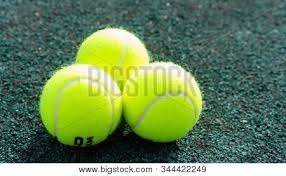tennis_ball: (40, 63, 122, 148), (121, 61, 204, 142), (75, 27, 151, 89)
